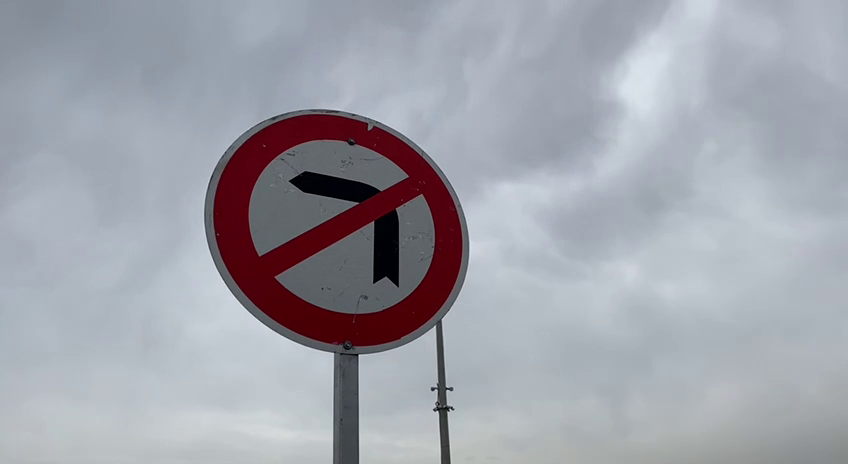noTurnLeft: (197, 103, 474, 356)
